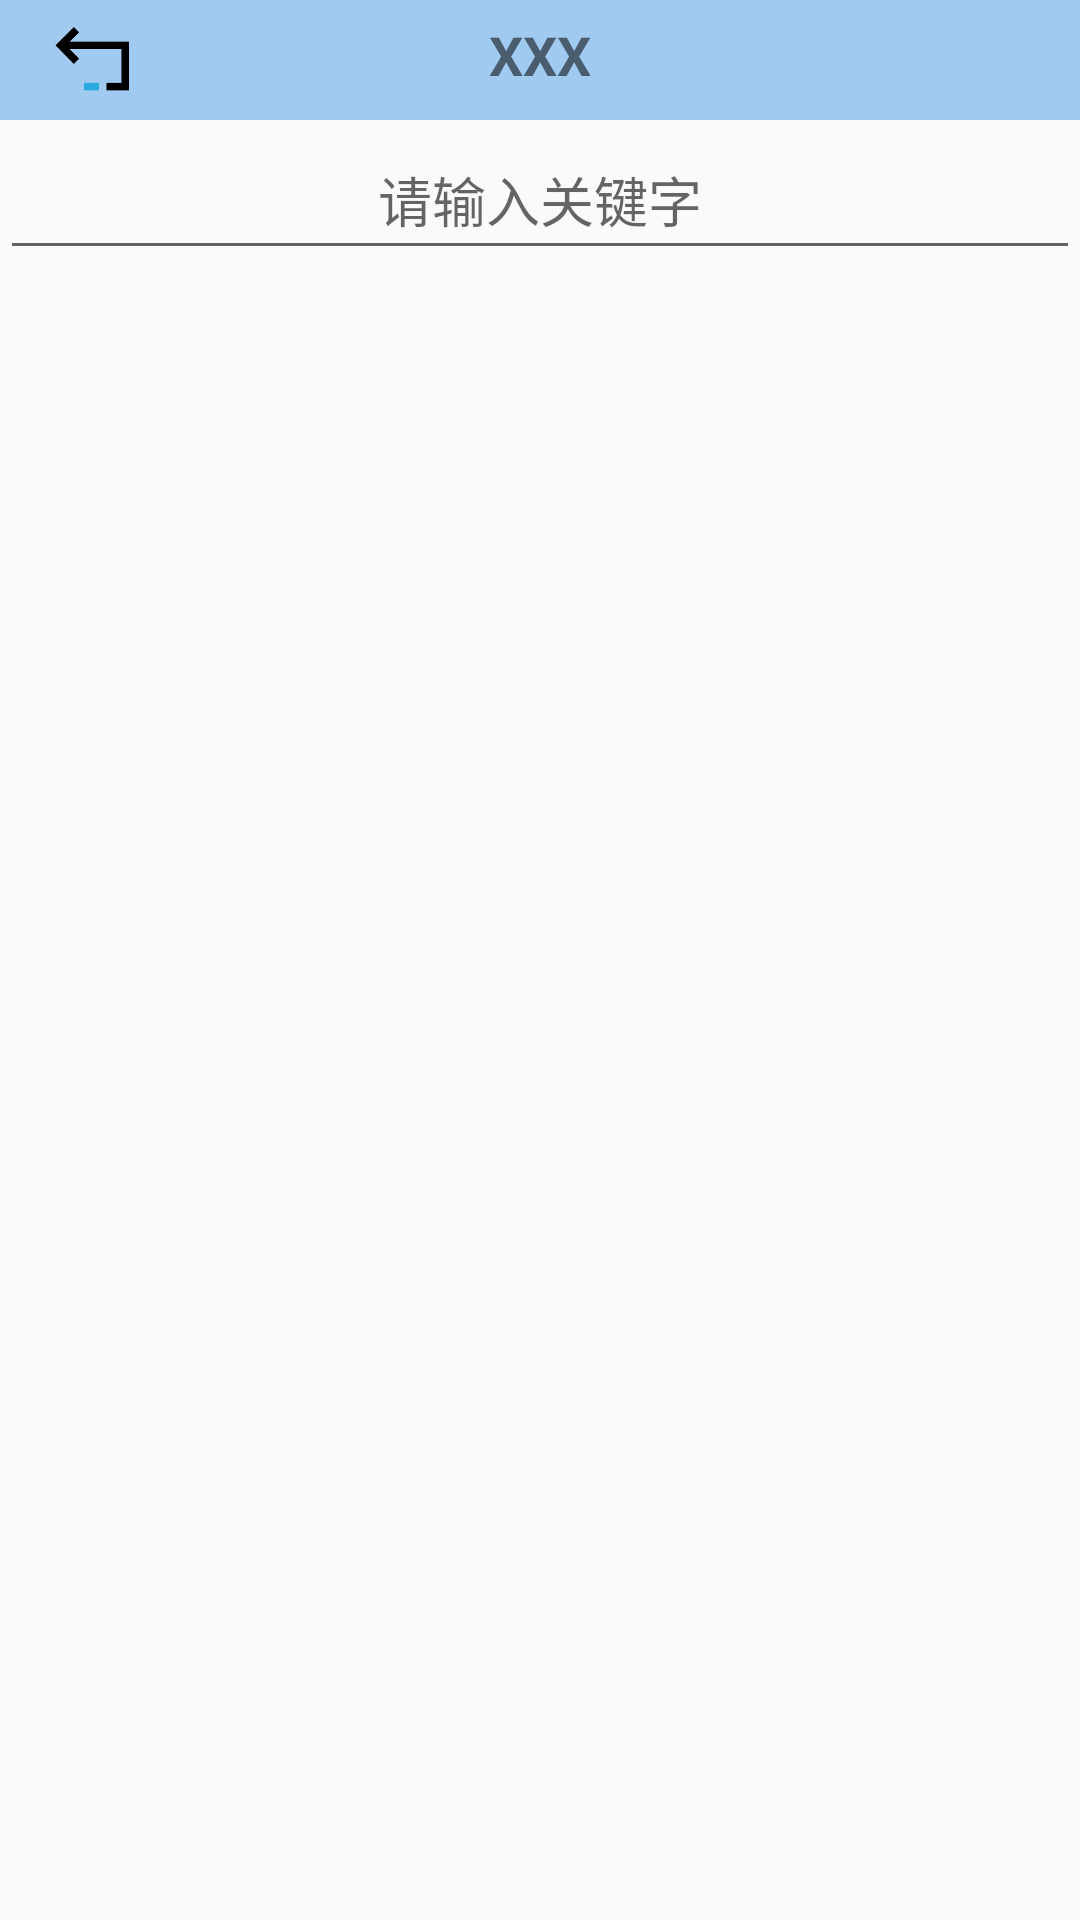

Named icons in this screenshot (1080px×1920px) and their centers, point (x, y):
back: point (92, 59)
